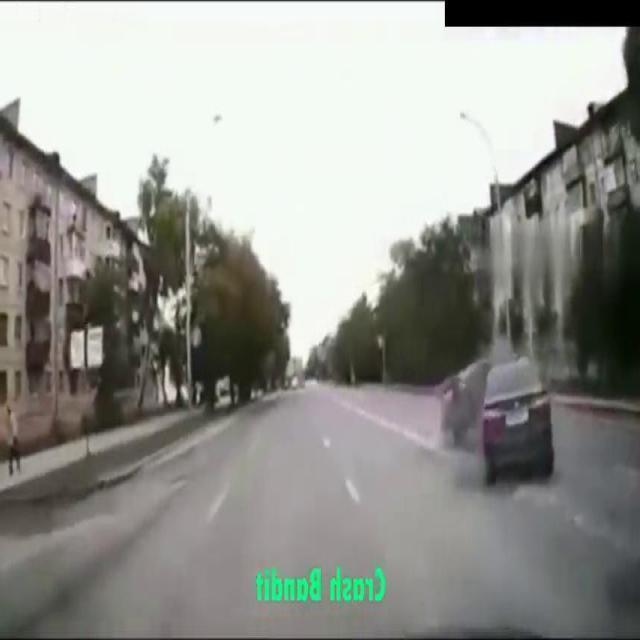accident: (435, 341, 556, 504)
